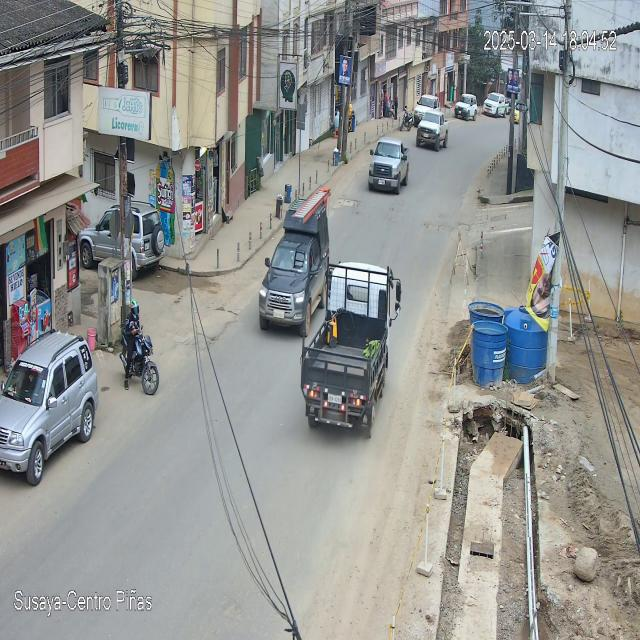CMT: (257, 187, 331, 341), (368, 136, 410, 196)
TRUCK: (310, 262, 399, 436)
